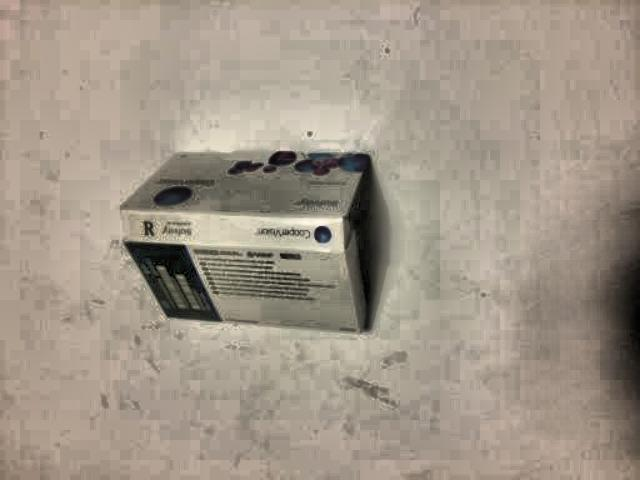Paper: (100, 135, 389, 348)
